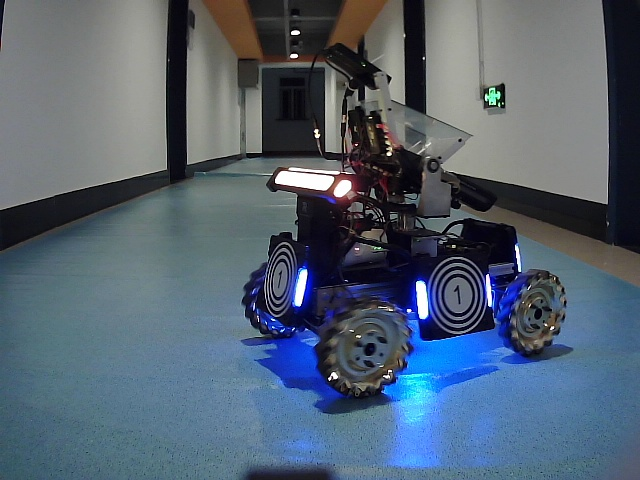lamp: (413, 278, 431, 320), (294, 267, 306, 307), (512, 242, 525, 276), (484, 273, 495, 308)
pair: (415, 280, 492, 306)
